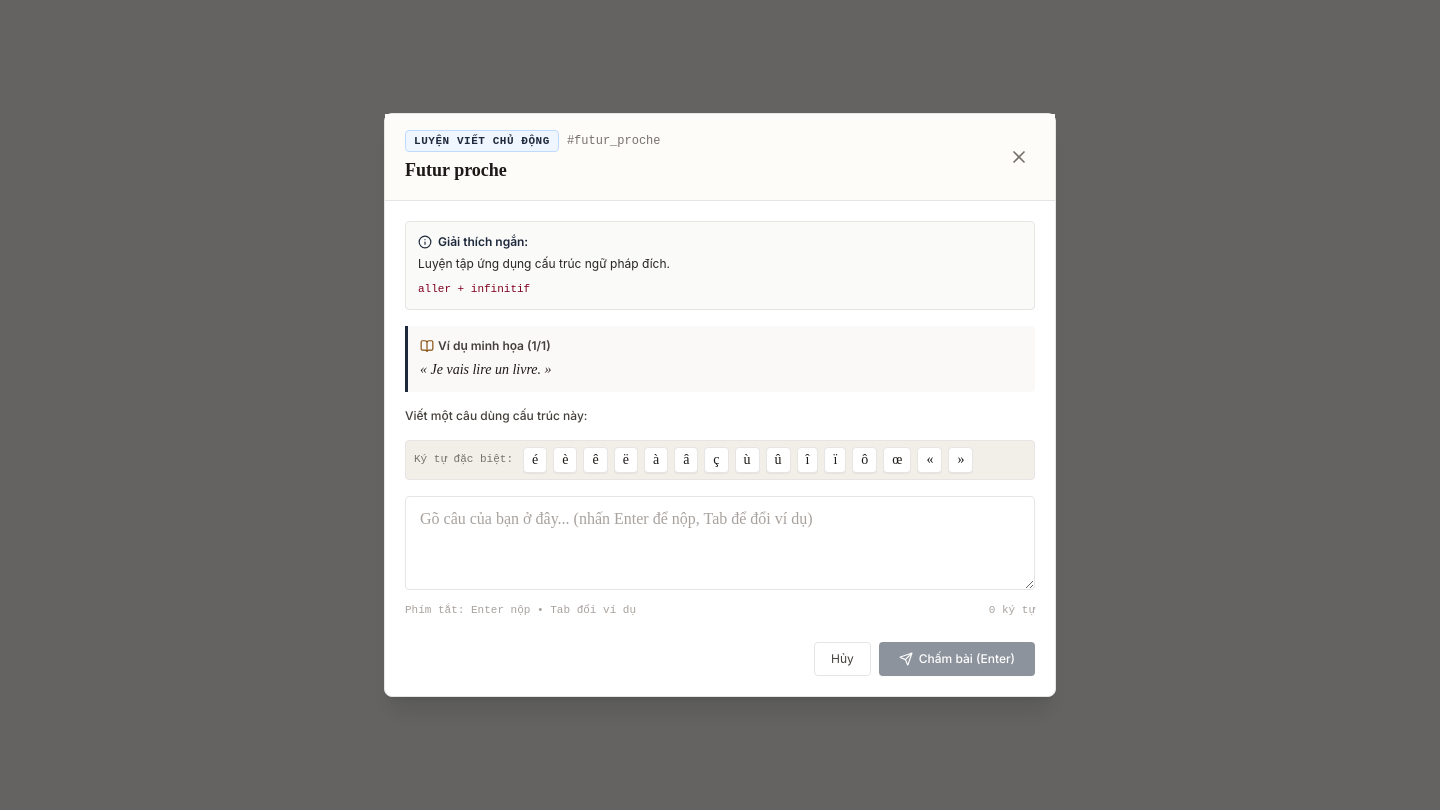
Task 6 - Grammar Exploration & Active Production › PracticeModal component › renders rule metadata and handles sentence evaluation
Check: the heading "Futur proche" is shown, box x1=405 y1=160 x2=507 y2=180
Check: the text "aller + infinitif" is shown, box x1=418 y1=283 x2=530 y2=295
Replace the text in the text box with placeholder "Gõ câu của bạn ở đây" with "Je vais partir demain.": (720, 543) x1=405 y1=496 x2=1035 y2=590
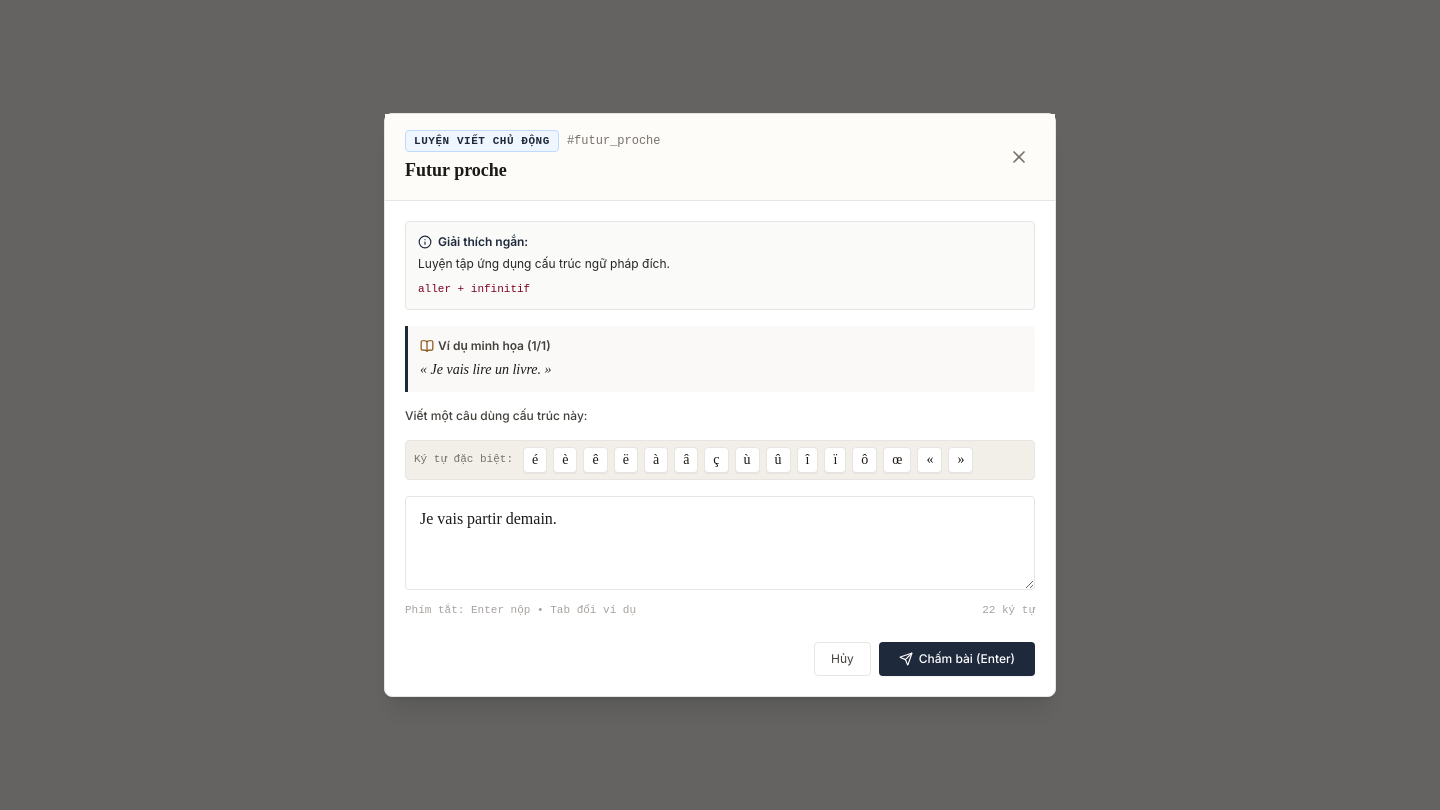
Click the button "Chấm bài (Enter)": (957, 659) x1=879 y1=642 x2=1035 y2=676
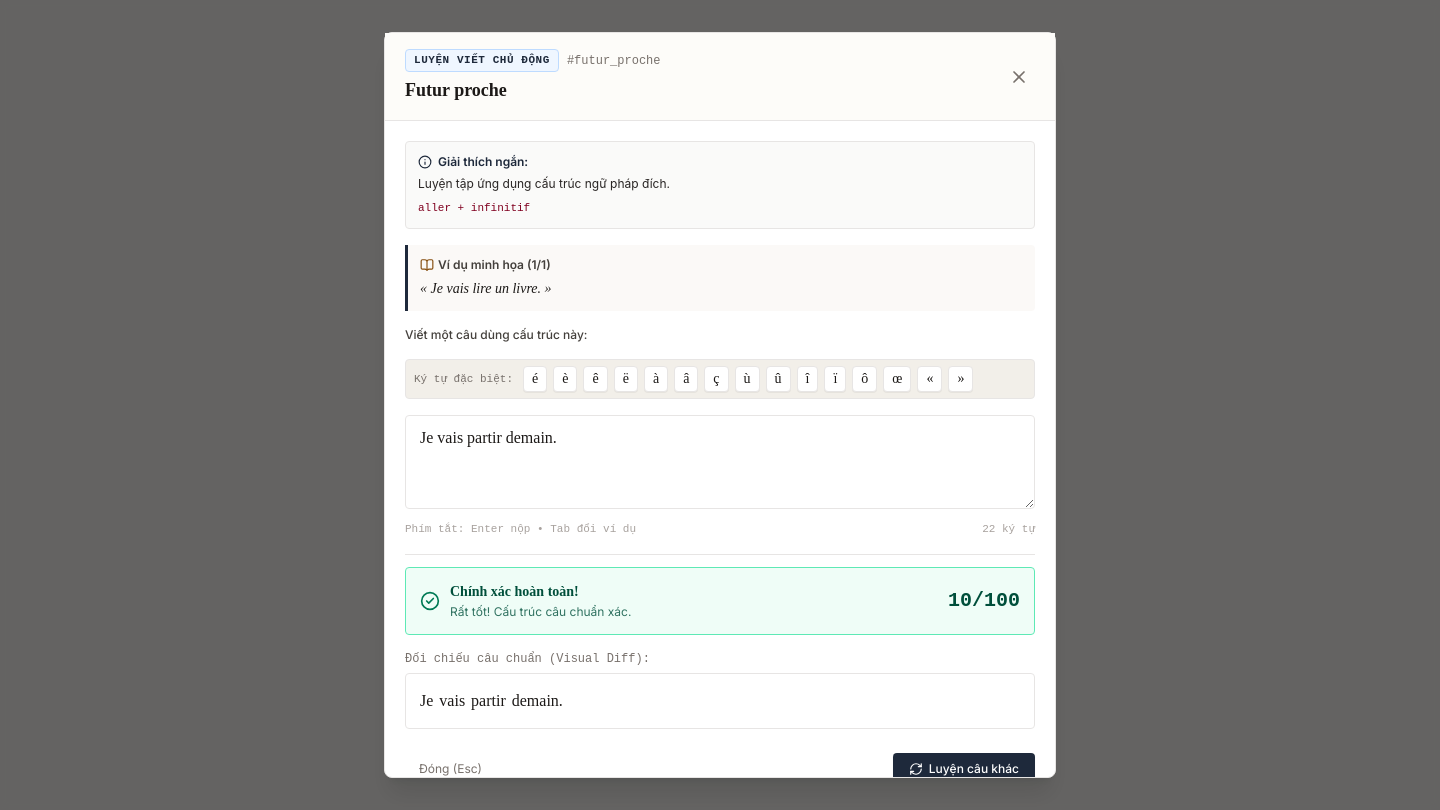
Check: the heading "Chính xác hoàn toàn!" is shown, box x1=450 y1=584 x2=579 y2=599
Check: the text "Rất tốt! Cấu trúc câu chuẩn xác." is shown, box x1=450 y1=604 x2=631 y2=620
